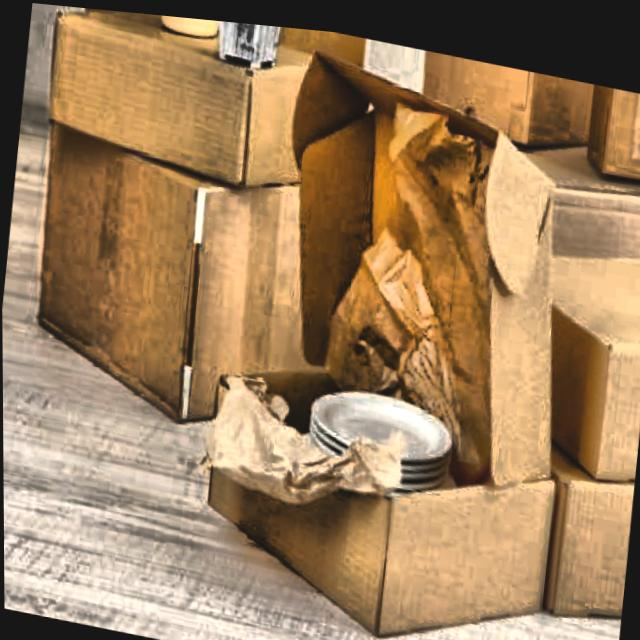Cardbox: (1, 106, 380, 464), (35, 3, 341, 199)
